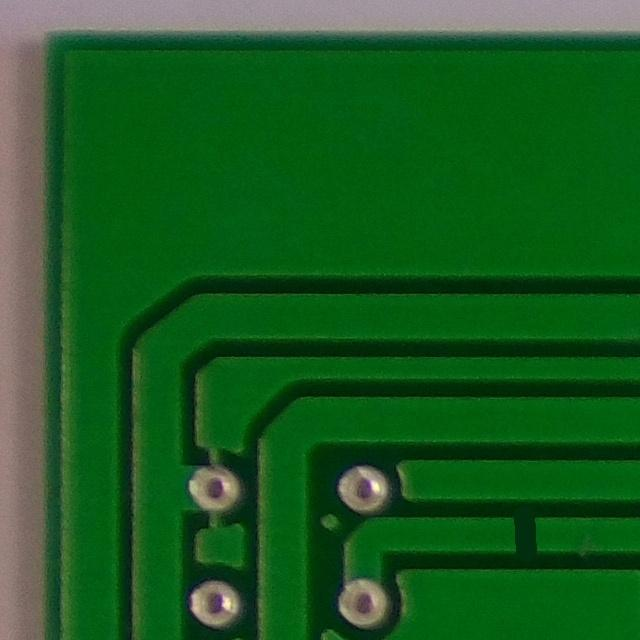open_circuit: (493, 501, 551, 568)
